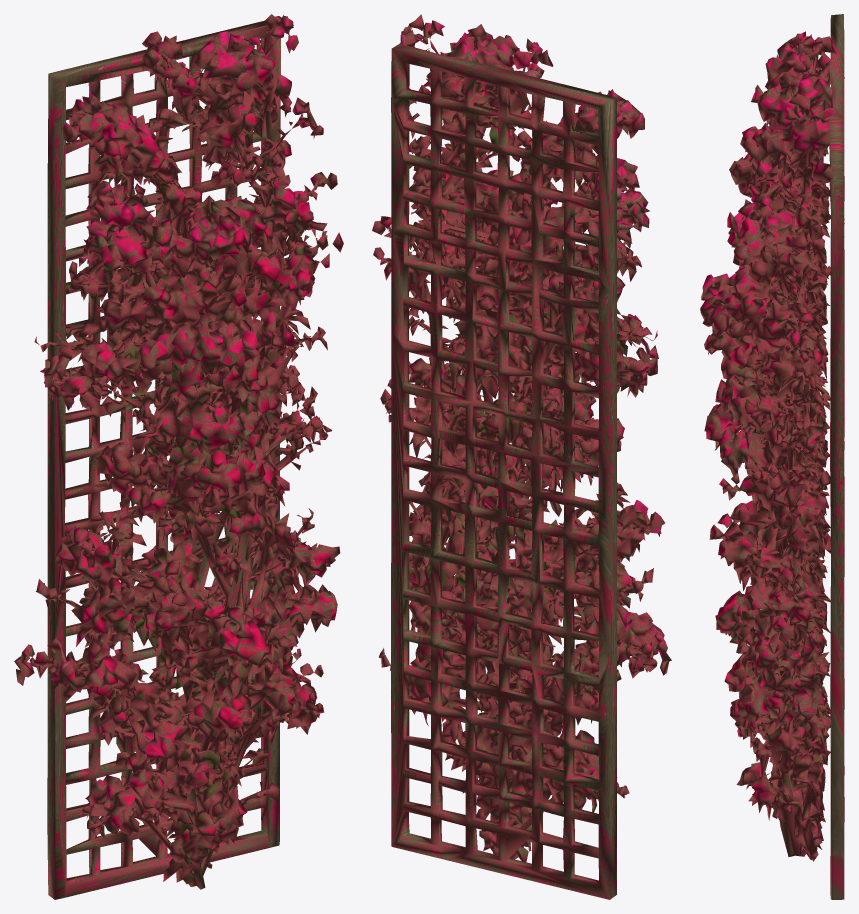
Rendered from trellis.glb.
The picture shows the model from 3 angles, left to right: view 1: azimuth 30°, elevation 25°; view 2: azimuth 150°, elevation 25°; view 3: azimuth 270°, elevation 25°; orthographic projection. The views are drawn at different scales.
Size of the model in its own units: 0.7388 by 1.9 by 0.308.
1 material, 1 textured.
